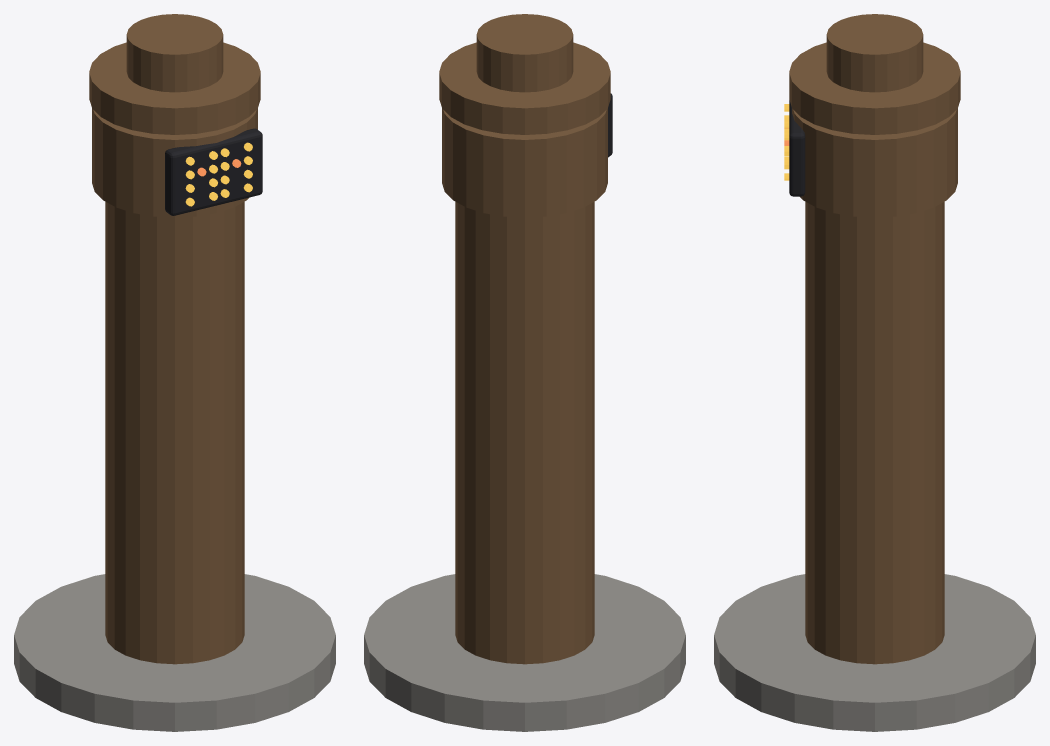
Rendered from jangseung.glb.
3 renders of one model, left to right at view 1: azimuth 30°, elevation 25°; view 2: azimuth 150°, elevation 25°; view 3: azimuth 270°, elevation 25°, orthographic.
Parts seen in each view (by area): view 1: Cylinder, Cylinder.022, Cylinder.002, Cylinder.001, Cylinder.003, Cube; view 2: Cylinder, Cylinder.022, Cylinder.001, Cylinder.002, Cylinder.003; view 3: Cylinder, Cylinder.022, Cylinder.001, Cylinder.002, Cylinder.003, Cube.
Part boxes in pixels (bbox=[...]): Cylinder: bbox=[105, 201, 244, 664]; Cylinder.022: bbox=[14, 574, 335, 731]; Cylinder.002: bbox=[89, 42, 260, 134]; Cylinder.001: bbox=[92, 108, 257, 217]; Cylinder.003: bbox=[126, 14, 223, 92]; Cube: bbox=[165, 128, 262, 215]; Cylinder: bbox=[455, 201, 594, 664]; Cylinder.022: bbox=[364, 574, 685, 731]; Cylinder.001: bbox=[442, 108, 607, 217]; Cylinder.002: bbox=[439, 42, 610, 134]; Cylinder.003: bbox=[476, 14, 573, 92]; Cylinder: bbox=[805, 201, 944, 664]; Cylinder.022: bbox=[714, 574, 1035, 731]; Cylinder.001: bbox=[792, 108, 957, 217]; Cylinder.002: bbox=[789, 42, 960, 134]; Cylinder.003: bbox=[826, 14, 923, 92]; Cube: bbox=[789, 100, 805, 196].
Bounding box in the file's own units: 0.6 × 1.3 × 0.6.
